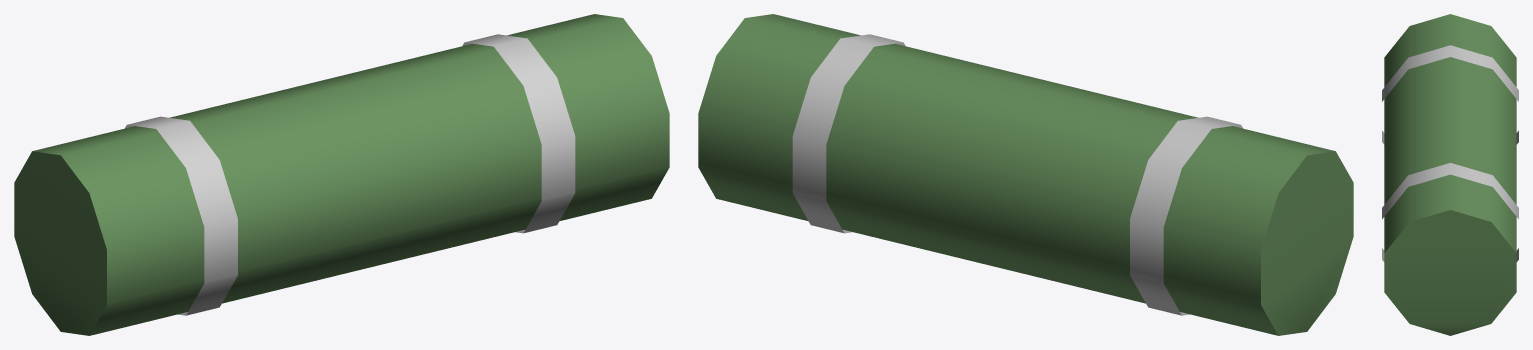
File: lona.glb
The picture shows the model from 3 angles, left to right: view 1: azimuth 30°, elevation 25°; view 2: azimuth 150°, elevation 25°; view 3: azimuth 270°, elevation 25°; orthographic projection. The views are drawn at different scales.
Parts seen in each view (by area): view 1: lona; view 2: lona; view 3: lona.
Part boxes in pixels (x1,y1,x2,y2): lona: (14, 14, 669, 335); lona: (698, 14, 1353, 335); lona: (1382, 14, 1518, 335).
Size of the model in its own units: 0.4 by 0.124 by 0.1179.
